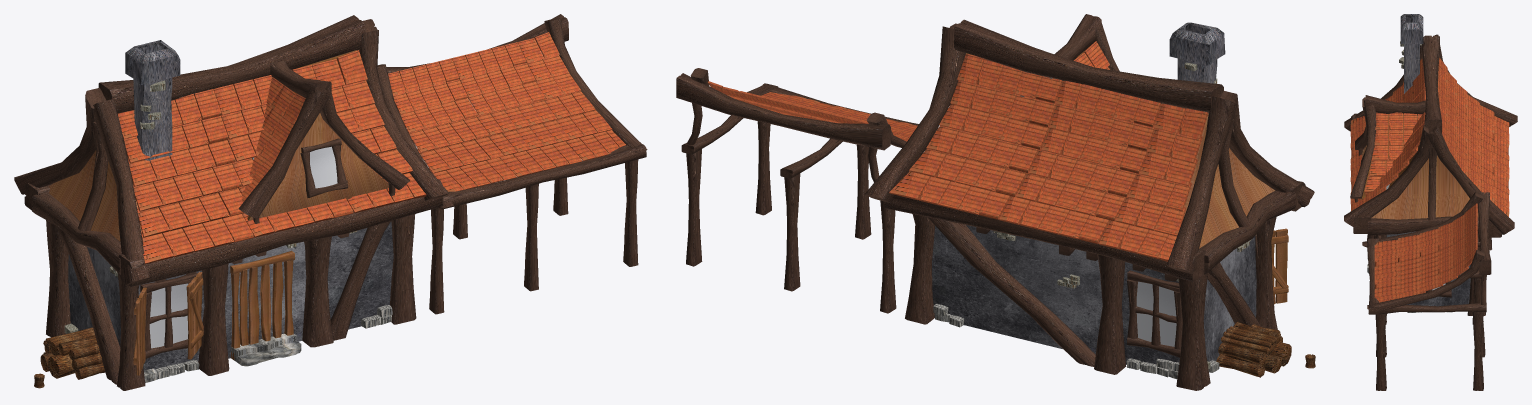
Rendered from TerceraCasa.fbx.
3 renders of one model, left to right at view 1: azimuth 30°, elevation 25°; view 2: azimuth 150°, elevation 25°; view 3: azimuth 270°, elevation 25°, orthographic. The views are drawn at different scales.
Parts seen in each view (by area): view 1: SeptimaCasa; view 2: SeptimaCasa; view 3: SeptimaCasa.
Boxes of the visible parts, x1,y1,x2,y2 form: SeptimaCasa: [14, 14, 647, 390]; SeptimaCasa: [676, 14, 1315, 390]; SeptimaCasa: [1344, 14, 1517, 390].
Bounding box in the file's own units: 4.78 × 2.45 × 1.78.
